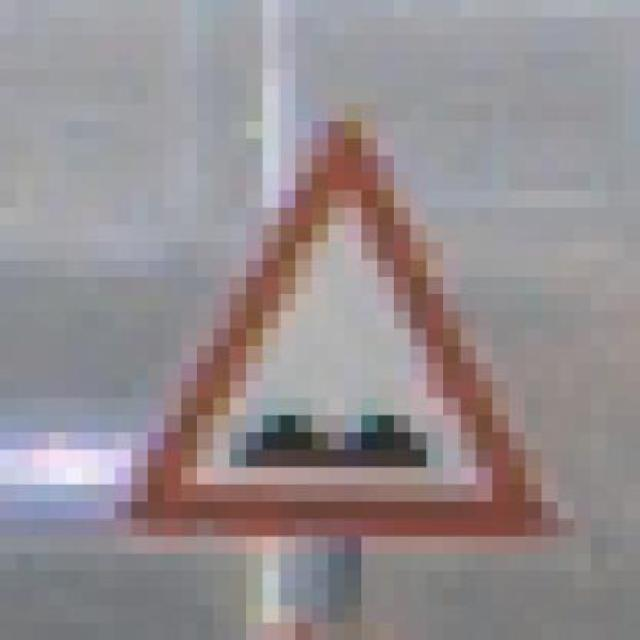Uneven Road: (132, 103, 574, 554)
